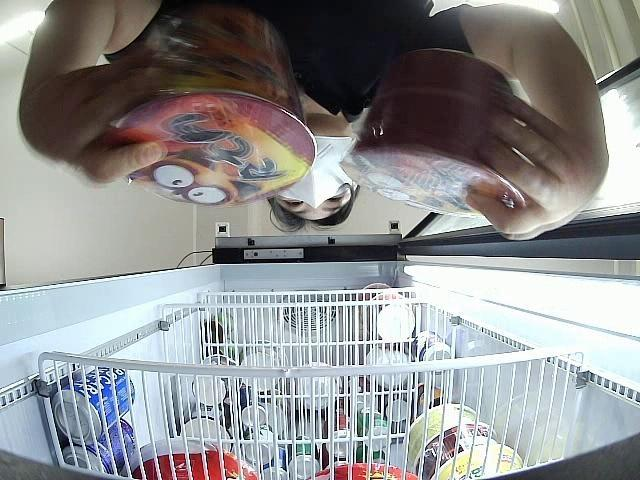05_nuguri_L: (101, 4, 317, 204), (341, 49, 517, 217)
